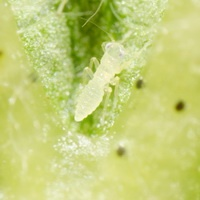insect: (64, 0, 165, 120)
